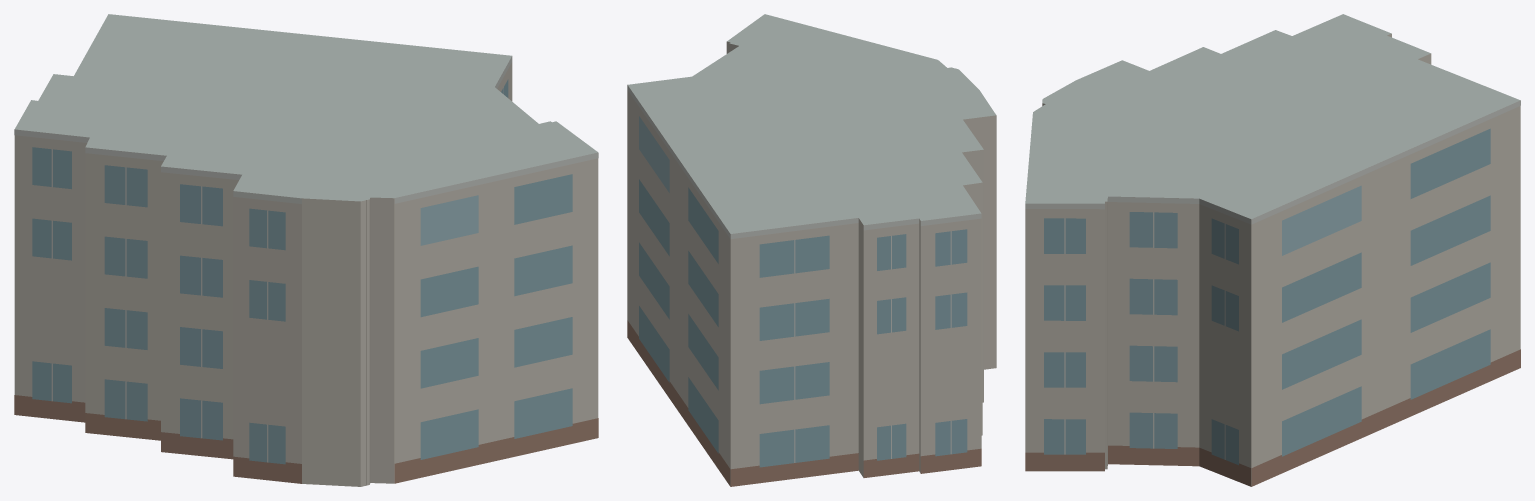
Rendered from survey-upis-32897167.glb.
3 renders of one model, left to right at view 1: azimuth 30°, elevation 25°; view 2: azimuth 150°, elevation 25°; view 3: azimuth 270°, elevation 25°, orthographic. The views are drawn at different scales.
Visible parts, largest first — view 1: survey-upis-32897167.tmp; view 2: survey-upis-32897167.tmp; view 3: survey-upis-32897167.tmp.
Part boxes in pixels (x1,y1,x2,y2): survey-upis-32897167.tmp: (14, 14, 598, 486); survey-upis-32897167.tmp: (627, 14, 996, 486); survey-upis-32897167.tmp: (1025, 14, 1520, 486).
Bounding box in the file's own units: 19.75 × 12 × 20.15.
